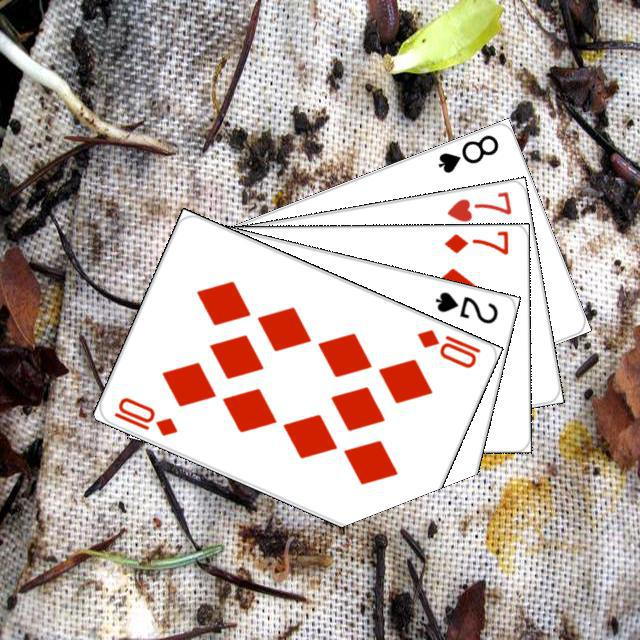10d: (108, 392, 180, 438), (412, 324, 483, 370)
2s: (430, 286, 500, 326)
7d: (440, 228, 511, 256)
7h: (442, 186, 513, 224)
8s: (433, 130, 501, 175)
